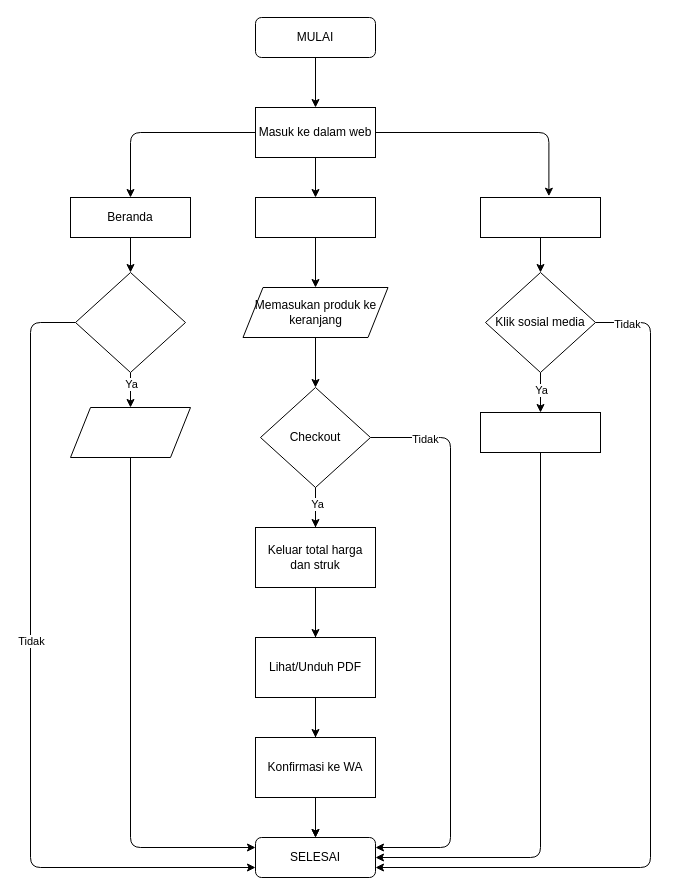
Some shapes in this 676 by 895 pixel diagram are drawn without their labels. The centre of each missing label's shape, as x and y in pixels:
"Hubungi Kami" belongs at [130,322].
"Input teks kirim wa/email" belongs at [130,432].
"Kontak" belongs at [540,217].
"Produk" belongs at [315,217].
"Sosial Media (IG, FB, TIK TOK)" belongs at [540,432].
